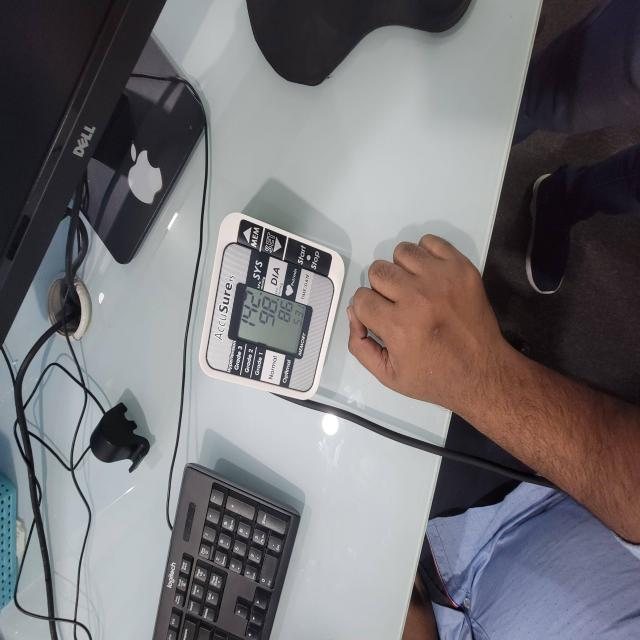bp: (198, 212, 344, 408)
